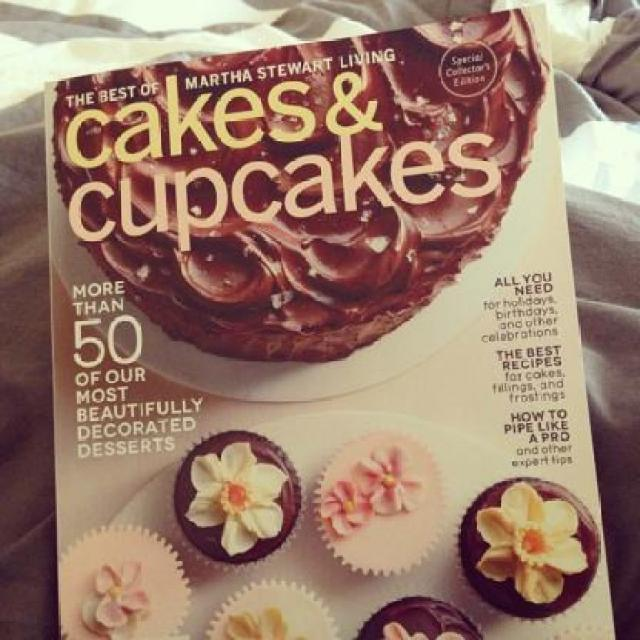Muffin: (303, 426, 452, 580), (448, 480, 598, 625), (178, 433, 307, 582), (49, 520, 194, 638), (202, 578, 336, 640), (352, 593, 488, 639)
